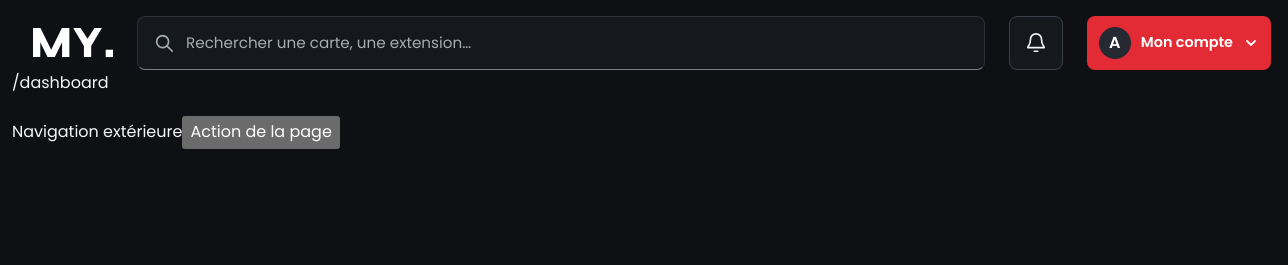
Test: ouvre au clic avec le focus sur Profil et se ferme au second clic
Click the button "A Mon compte" at (1179, 43), box [1087,16,1271,70]
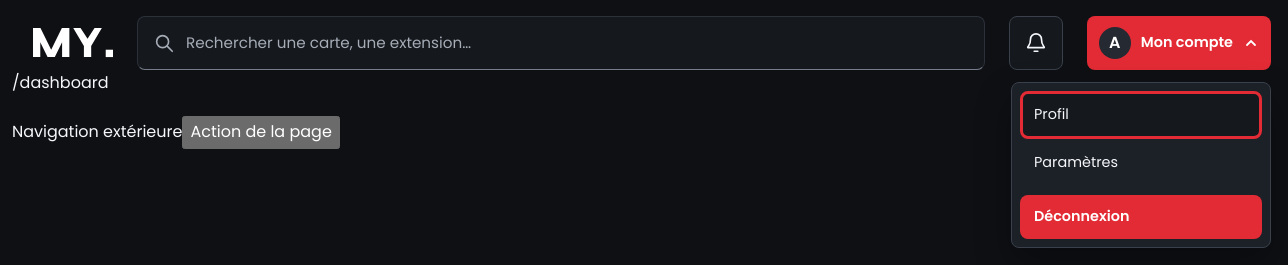
Now the button "A Mon compte" is expanded
Now the menu items read "Profil", "Paramètres", "Déconnexion", in this order, box [1020,91,1262,139]; [1034,152,1118,172]; [1020,194,1262,238]
Click the button "A Mon compte" at (1179, 43), box [1087,16,1271,70]
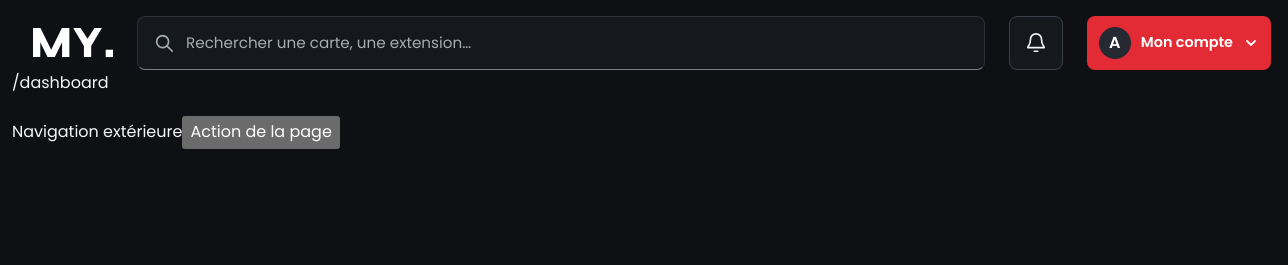
Now the menu is gone
Now the button "A Mon compte" is collapsed, box [1087,16,1271,70]
